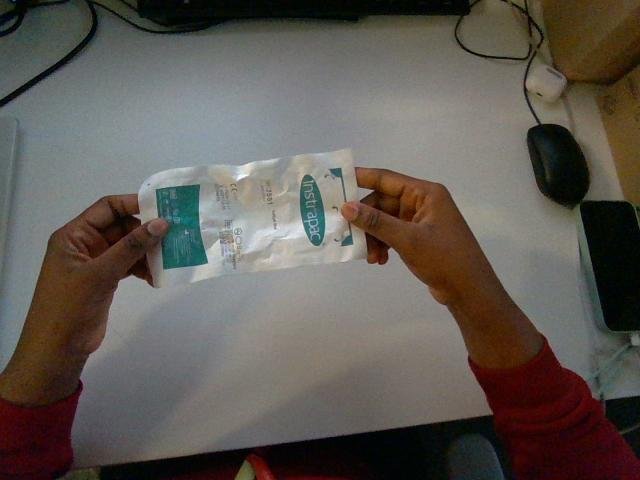gallipot: (139, 149, 365, 286)
